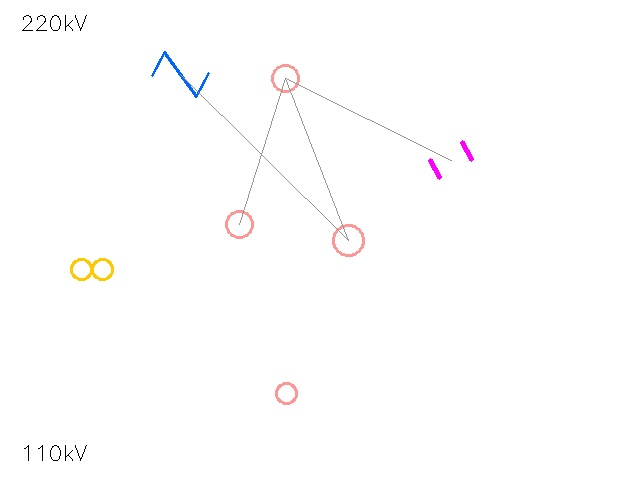capacitor: (420, 129, 482, 191)
circuit_breaker: (153, 47, 207, 101)
current_transformer: (265, 372, 307, 414)
disconnect_switch: (212, 197, 266, 251)
reactor: (259, 52, 311, 104)
transformer_2w: (65, 242, 119, 296)
voltage_transformer: (318, 210, 378, 270)
